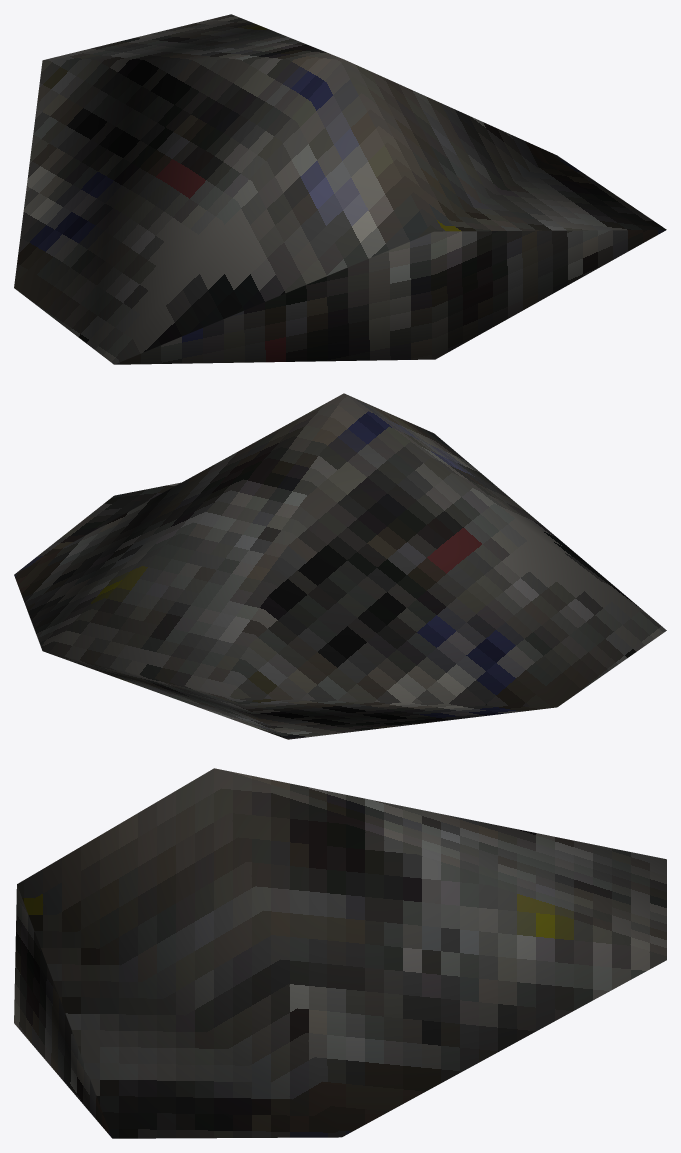
The model's file is Very Low Poly.obj.
3 views of the same model, one above another, from view 1: azimuth 30°, elevation 25°; view 2: azimuth 150°, elevation 25°; view 3: azimuth 270°, elevation 25° (orthographic). The views are drawn at different scales.
Parts seen in each view (by area): view 1: shield_shield-geometry; view 2: shield_shield-geometry; view 3: shield_shield-geometry.
Boxes of the visible parts, x1,y1,x2,y2 form: shield_shield-geometry: [14, 14, 666, 364]; shield_shield-geometry: [14, 393, 666, 739]; shield_shield-geometry: [14, 768, 666, 1138].
Size of the model in its own units: 17.27 by 9.12 by 16.15.
1 material, 1 textured.
